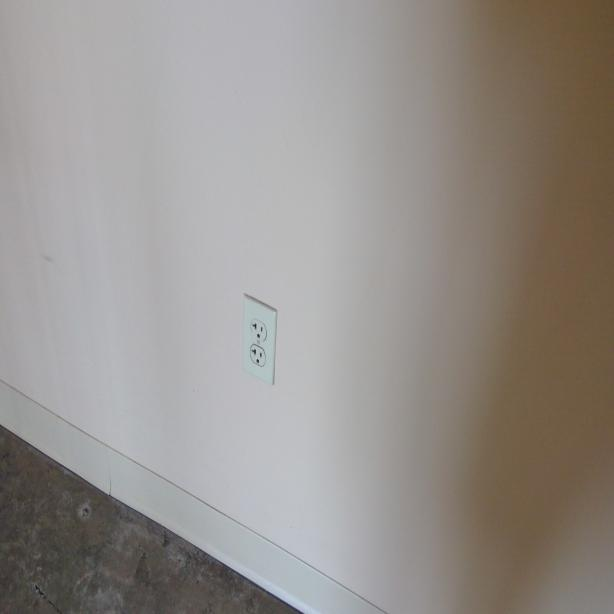typeb: (249, 344, 266, 370), (251, 318, 266, 338)
